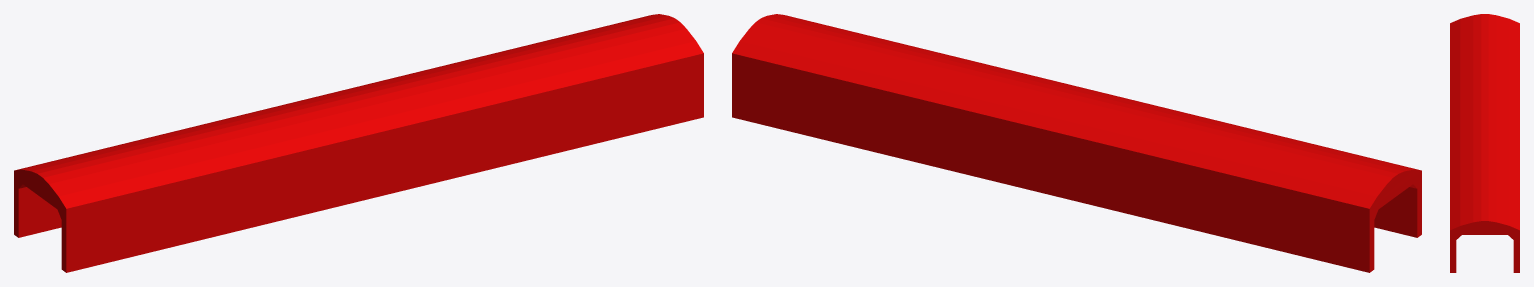
The model's file is tunnel.fbx.
The picture shows the model from 3 angles, left to right: view 1: azimuth 30°, elevation 25°; view 2: azimuth 150°, elevation 25°; view 3: azimuth 270°, elevation 25°; orthographic projection. The views are drawn at different scales.
Visible parts, largest first — view 1: Tunnel; view 2: Tunnel; view 3: Tunnel.
Part boxes in pixels (bbox=[...]): Tunnel: bbox=[14, 14, 703, 272]; Tunnel: bbox=[732, 14, 1421, 272]; Tunnel: bbox=[1450, 14, 1519, 272].
Size of the model in its own units: 122 by 14.23 by 17.32.
